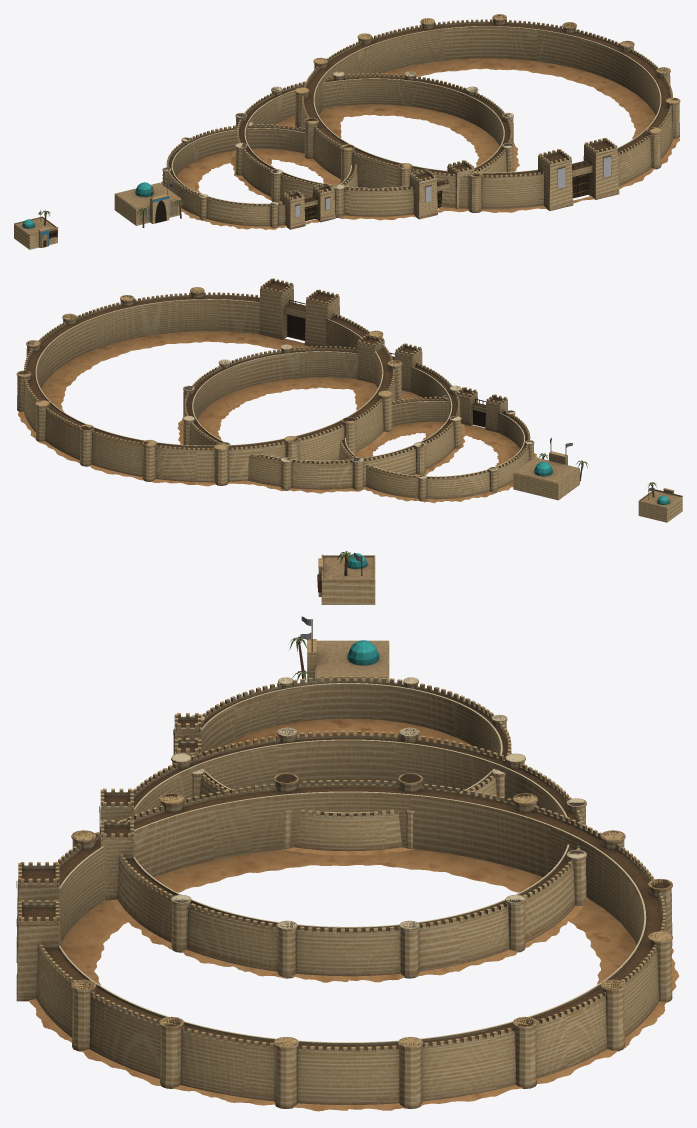
Rendered from shared-kingdoms-mesopotamia.glb.
The picture shows the model from 3 angles, top to bottom: view 1: azimuth 30°, elevation 25°; view 2: azimuth 150°, elevation 25°; view 3: azimuth 270°, elevation 25°; orthographic projection. The views are drawn at different scales.
Parts seen in each view (by area): view 1: LOD0.004, LOD0.003, LOD0.002, LOD0.001, LOD0; view 2: LOD0.004, LOD0.003, LOD0.002, LOD0.001, LOD0; view 3: LOD0.004, LOD0.003, LOD0.002, LOD0.001, LOD0.
Boxes of the visible parts, x1,y1,x2,y2 form: LOD0.004: [294, 14, 680, 212]; LOD0.003: [231, 71, 519, 220]; LOD0.002: [160, 122, 357, 229]; LOD0.001: [114, 182, 185, 227]; LOD0: [14, 210, 58, 249]; LOD0.004: [16, 278, 402, 486]; LOD0.003: [177, 334, 465, 493]; LOD0.002: [339, 387, 537, 503]; LOD0.001: [513, 437, 588, 500]; LOD0: [638, 482, 682, 522]; LOD0.004: [16, 773, 679, 1111]; LOD0.003: [99, 727, 588, 982]; LOD0.002: [173, 676, 511, 855]; LOD0.001: [289, 616, 389, 681]; LOD0: [317, 551, 375, 604].
Size of what is drawn, in the model's own units: 16.88 by 1.22 by 9.
3 materials, 3 textured.
